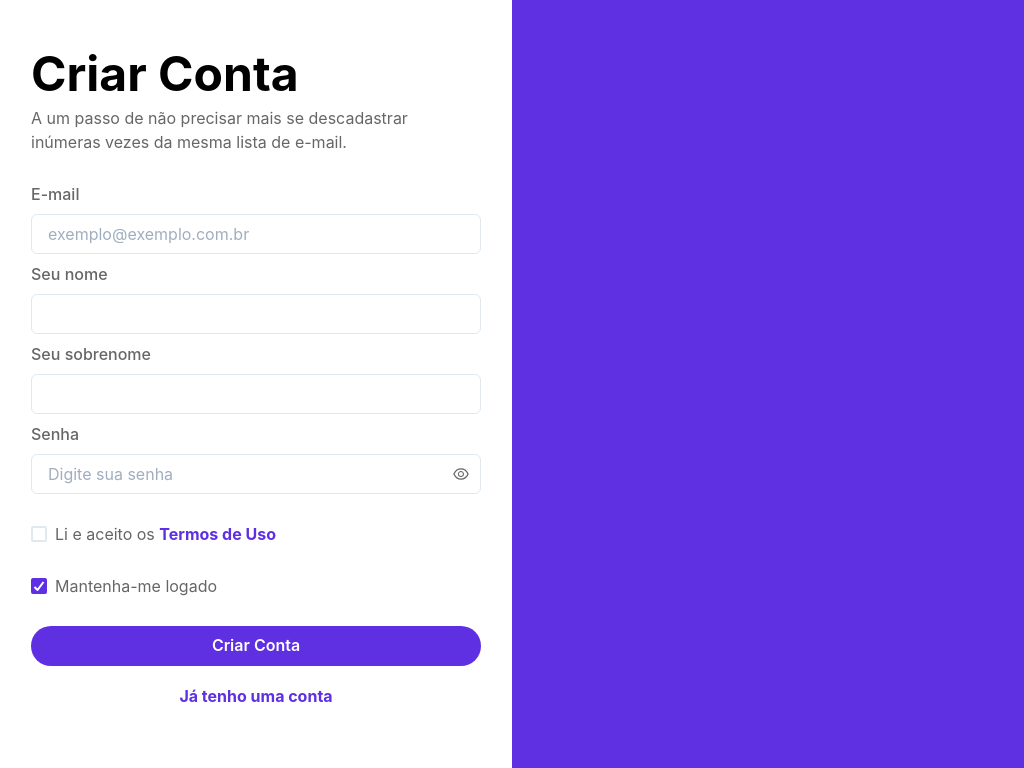
Test: Signup › should click on the accept terms checkbox must open the accept terms modal and click on the confirm do change the checkbox
Click the checkbox with test id "terms-field". click: (154, 534)
box: [31,522,276,546]
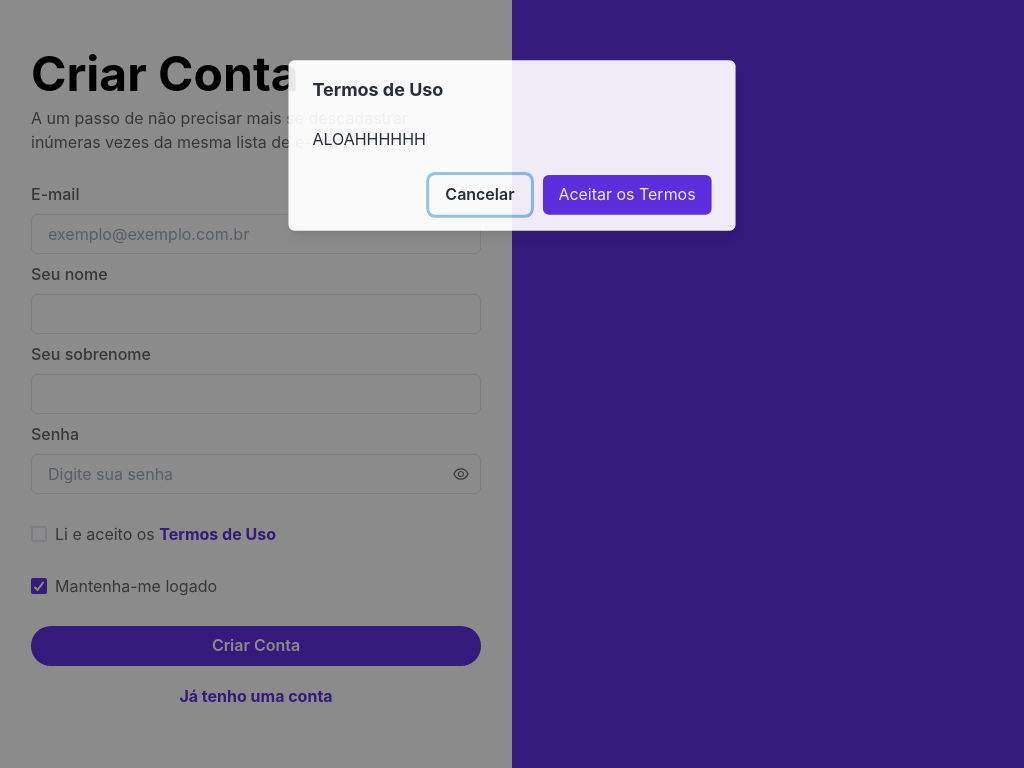
Expected: the dialog is shown, [288,60,736,231]
Click the button with test id "confirm-button". click: (627, 195)
box: [542,175,712,215]
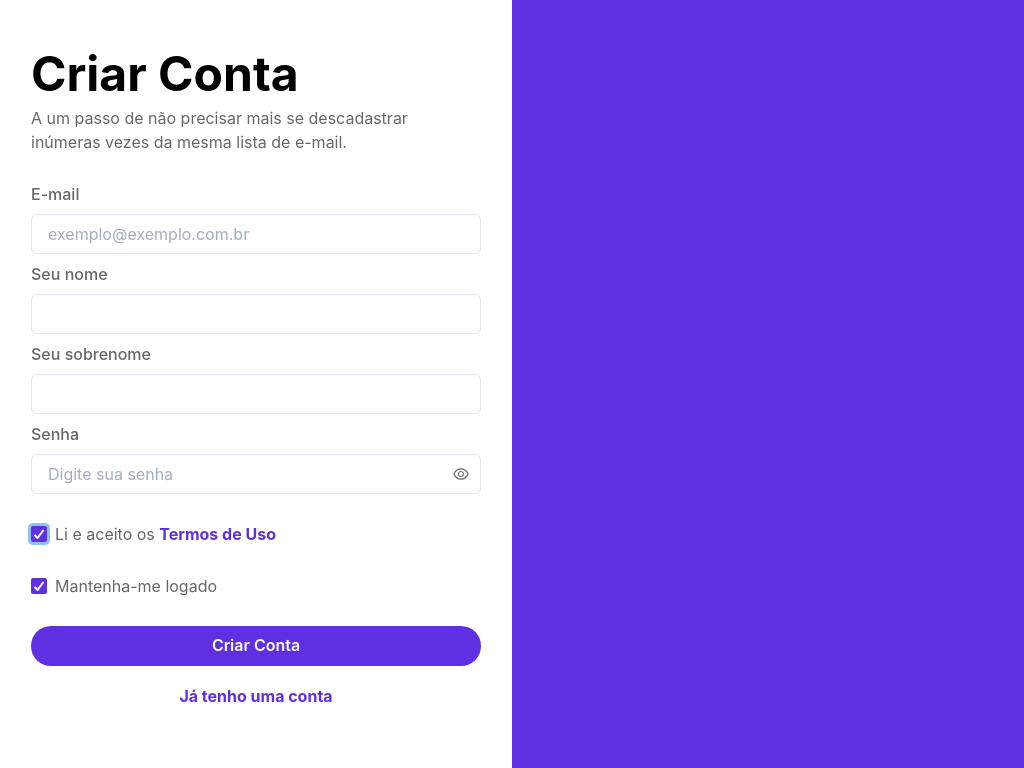
Expected: the checkbox labelled "Li e aceito os Termos de Uso" is checked, [31,522,276,546]
Expected: the dialog is gone
